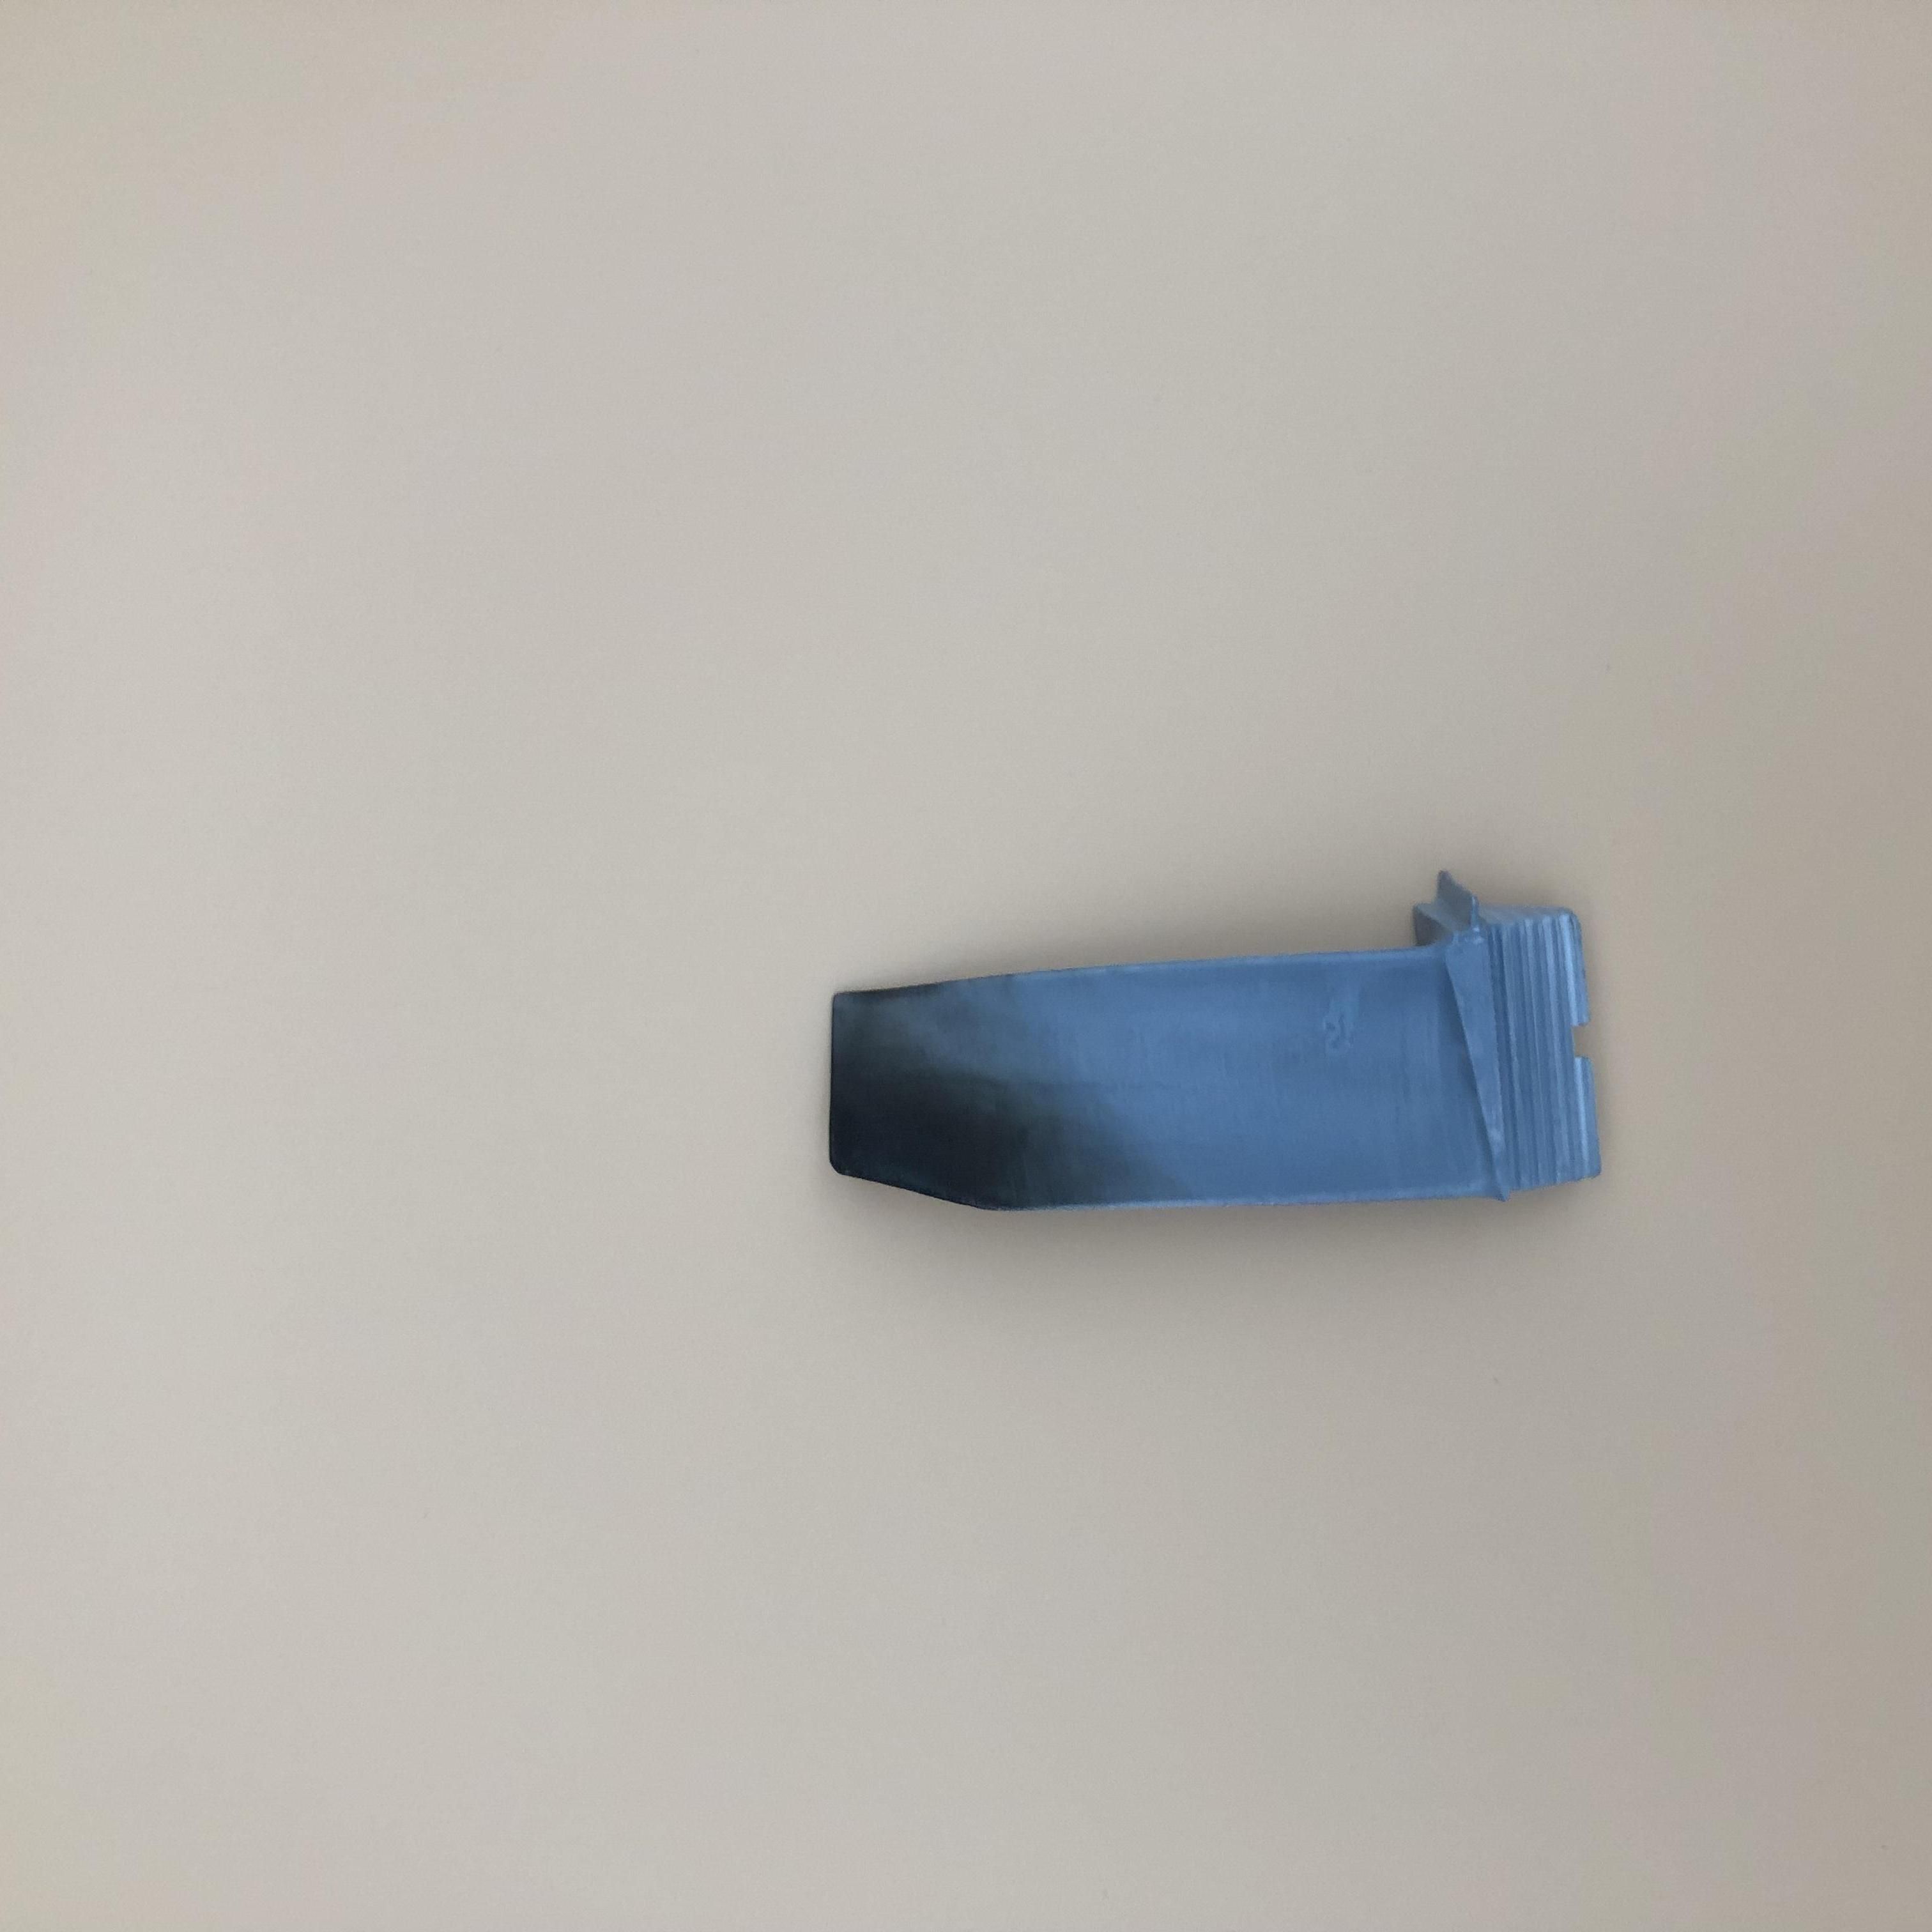ablation: (835, 1001, 1113, 1205)
